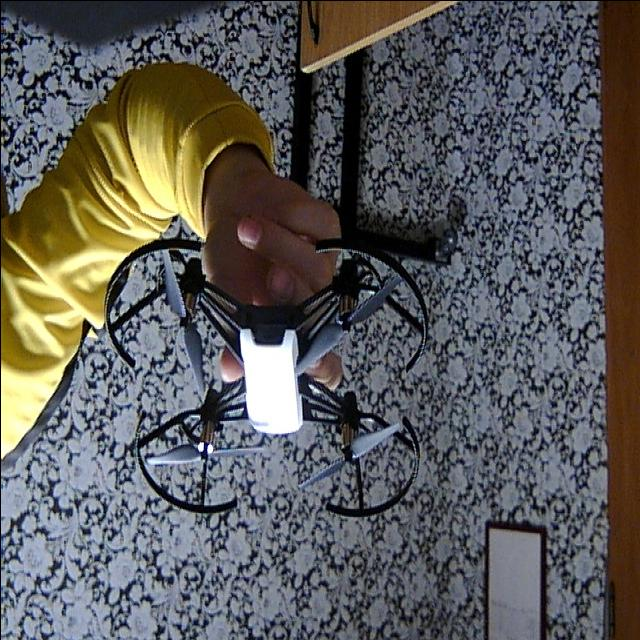drone: (94, 228, 442, 540)
